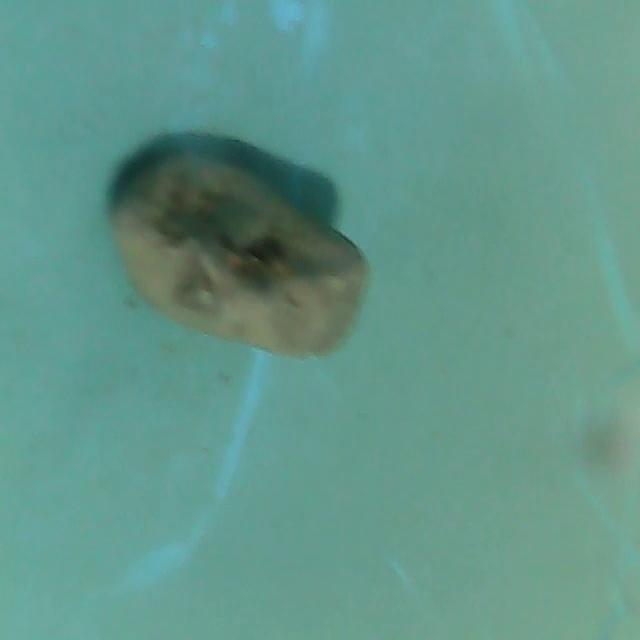rock: (108, 145, 376, 370)
